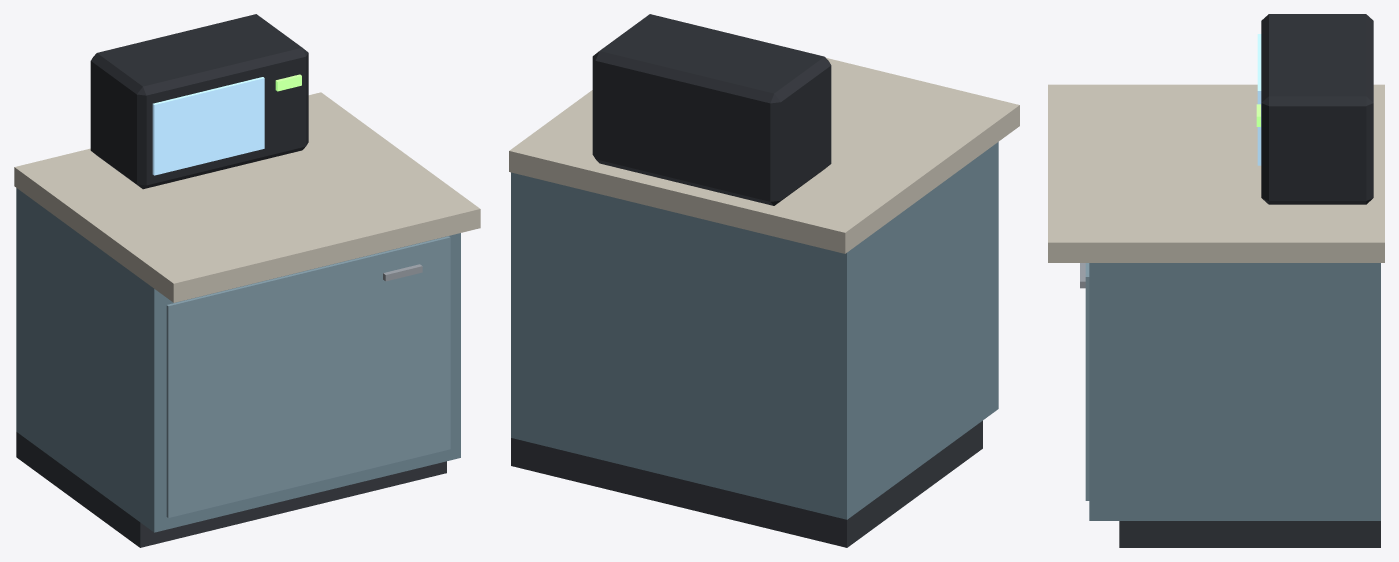
The model's file is counter_microwave.glb.
3 views of the same model, side by side, from view 1: azimuth 30°, elevation 25°; view 2: azimuth 150°, elevation 25°; view 3: azimuth 270°, elevation 25° (orthographic). The views are drawn at different scales.
Parts seen in each view (by area): view 1: counter_microwave_mesh; view 2: counter_microwave_mesh; view 3: counter_microwave_mesh.
Part boxes in pixels (<box>): counter_microwave_mesh: <box>14,14,480,547</box>; counter_microwave_mesh: <box>509,14,1019,547</box>; counter_microwave_mesh: <box>1048,14,1384,547</box>.
Size of the model in its own units: 1 by 1.22 by 0.9.
